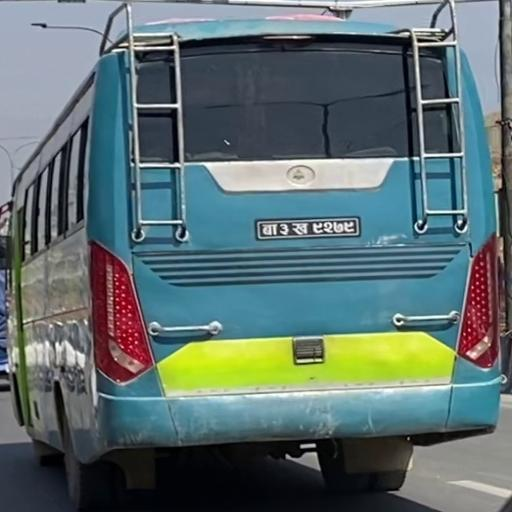license_plate: (253, 214, 363, 242)
